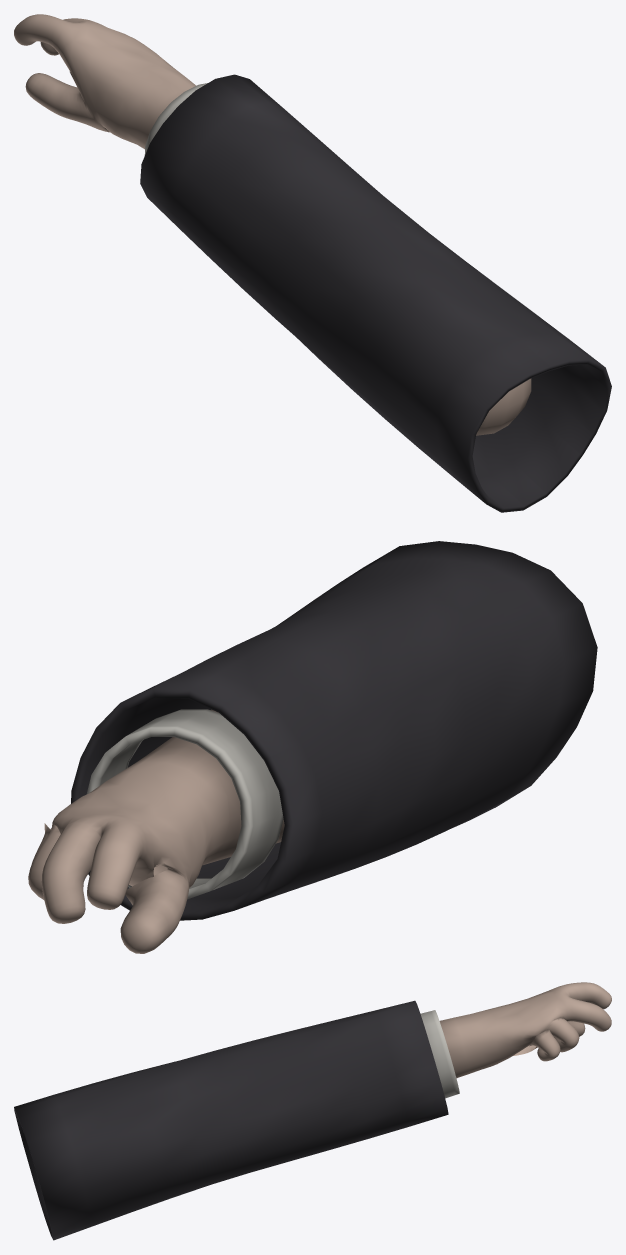
File: hand_right.glb
The picture shows the model from 3 angles, top to bottom: view 1: azimuth 30°, elevation 25°; view 2: azimuth 150°, elevation 25°; view 3: azimuth 270°, elevation 25°; orthographic projection. The views are drawn at different scales.
Parts seen in each view (by area): view 1: HandRight; view 2: HandRight; view 3: HandRight.
Part boxes in pixels (x1,y1,x2,y2): HandRight: (14, 14, 611, 512); HandRight: (28, 541, 597, 953); HandRight: (14, 982, 611, 1240).
Size of the model in its own units: 0.1342 by 0.1502 by 0.3931.
